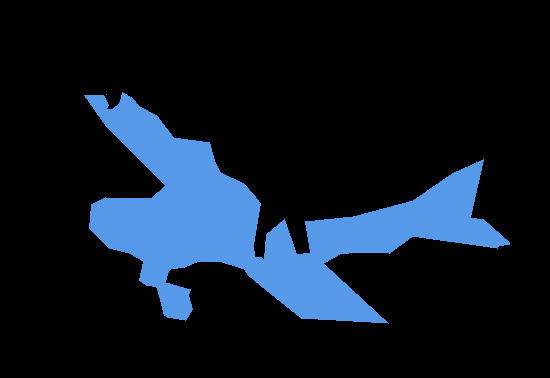Airplane: (84, 92, 510, 323)
